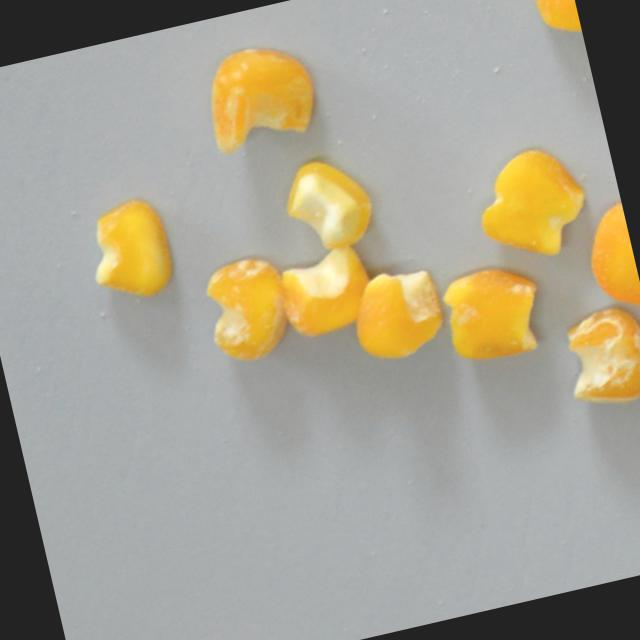no_canjicado: (466, 139, 596, 270), (343, 260, 450, 368), (275, 149, 380, 258), (79, 195, 179, 308), (574, 201, 640, 317), (532, 0, 582, 42)
pelicula: (195, 36, 323, 156), (436, 258, 549, 368), (196, 251, 297, 368), (272, 241, 380, 343), (553, 300, 640, 415)
